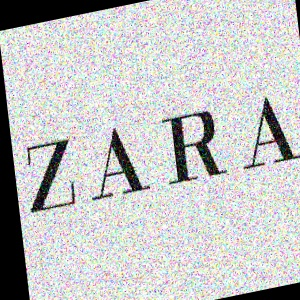zara: (287, 23, 300, 129)
